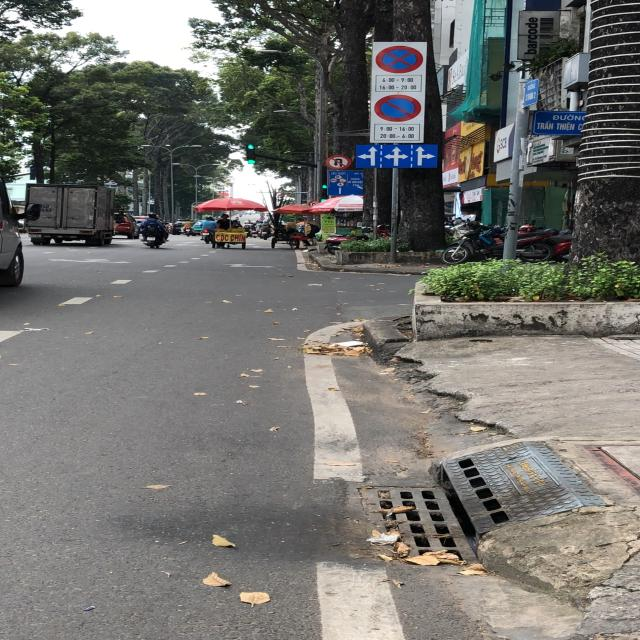Bien bao cam do xe: (373, 92, 422, 123)
Bien bao cam dung xe va do xe: (372, 43, 426, 75)
Bien bao cam quay dau xe: (320, 152, 350, 170)
